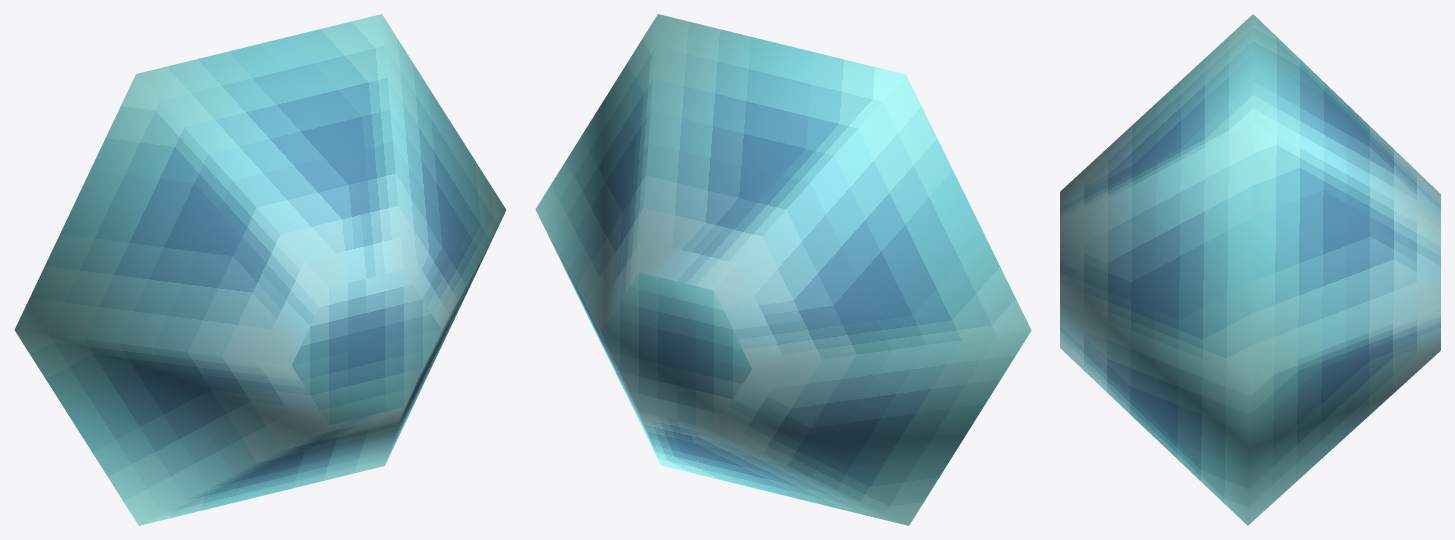
Rendered from JewelOfLuck.glb.
3 views of the same model, side by side, from view 1: azimuth 30°, elevation 25°; view 2: azimuth 150°, elevation 25°; view 3: azimuth 270°, elevation 25° (orthographic). The views are drawn at different scales.
Parts seen in each view (by area): view 1: model_JewelOfLuck; view 2: model_JewelOfLuck; view 3: model_JewelOfLuck.
Part boxes in pixels (box(x1,y1,x2,y2)): model_JewelOfLuck: box(14, 14, 506, 525); model_JewelOfLuck: box(535, 14, 1031, 525); model_JewelOfLuck: box(1060, 14, 1440, 525).
Bounding box in the file's own units: 0.2194 × 0.1917 × 0.1637.
Materials: 1 (1 with a texture image).
